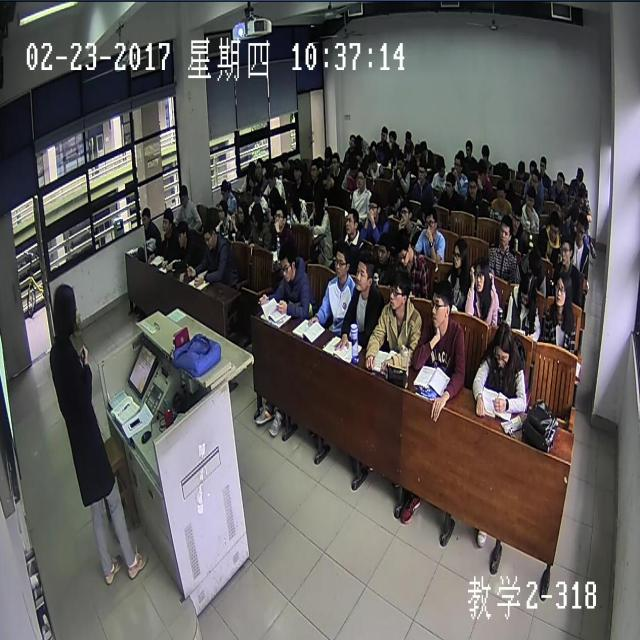person: (52, 284, 75, 334), (432, 279, 451, 326), (494, 322, 512, 368), (390, 268, 408, 312), (554, 271, 572, 310), (355, 253, 372, 293), (279, 242, 294, 282), (395, 230, 410, 266), (335, 244, 349, 278), (520, 271, 533, 304), (453, 237, 466, 270), (474, 258, 486, 292), (377, 229, 389, 263), (203, 221, 216, 249), (499, 214, 510, 246), (274, 202, 286, 231), (560, 233, 571, 264), (424, 208, 435, 239), (576, 210, 586, 242), (346, 208, 357, 234), (368, 195, 379, 221), (249, 201, 260, 227), (529, 247, 539, 275), (549, 211, 558, 241), (161, 208, 171, 234), (400, 200, 410, 224), (268, 186, 278, 210), (512, 203, 521, 229), (177, 222, 186, 248), (388, 184, 397, 210), (236, 201, 246, 223), (445, 171, 454, 195), (311, 192, 320, 216), (524, 186, 534, 207), (570, 206, 579, 229), (287, 190, 297, 210), (501, 167, 510, 189), (468, 174, 476, 198), (141, 205, 149, 229), (476, 160, 484, 183), (418, 160, 427, 180), (496, 180, 504, 202), (356, 168, 364, 190), (321, 168, 329, 190), (248, 161, 256, 183), (179, 184, 187, 206), (264, 166, 273, 185), (436, 156, 444, 176), (310, 159, 318, 179), (331, 151, 339, 171), (221, 178, 229, 198), (218, 199, 226, 219), (556, 170, 563, 192), (348, 156, 356, 175), (368, 148, 375, 169), (255, 157, 262, 178), (252, 184, 259, 204), (517, 159, 525, 176), (531, 168, 538, 187), (577, 187, 584, 206), (454, 154, 461, 173), (293, 161, 300, 180), (280, 152, 288, 168), (528, 158, 535, 176), (554, 196, 560, 217), (464, 138, 471, 156), (419, 139, 426, 157), (324, 144, 331, 162), (396, 150, 403, 167), (481, 144, 488, 160), (354, 148, 361, 164), (414, 144, 421, 160), (349, 132, 356, 147), (577, 165, 583, 182), (540, 155, 546, 171), (355, 133, 361, 147), (405, 128, 410, 144), (389, 130, 395, 143), (381, 124, 386, 139)
